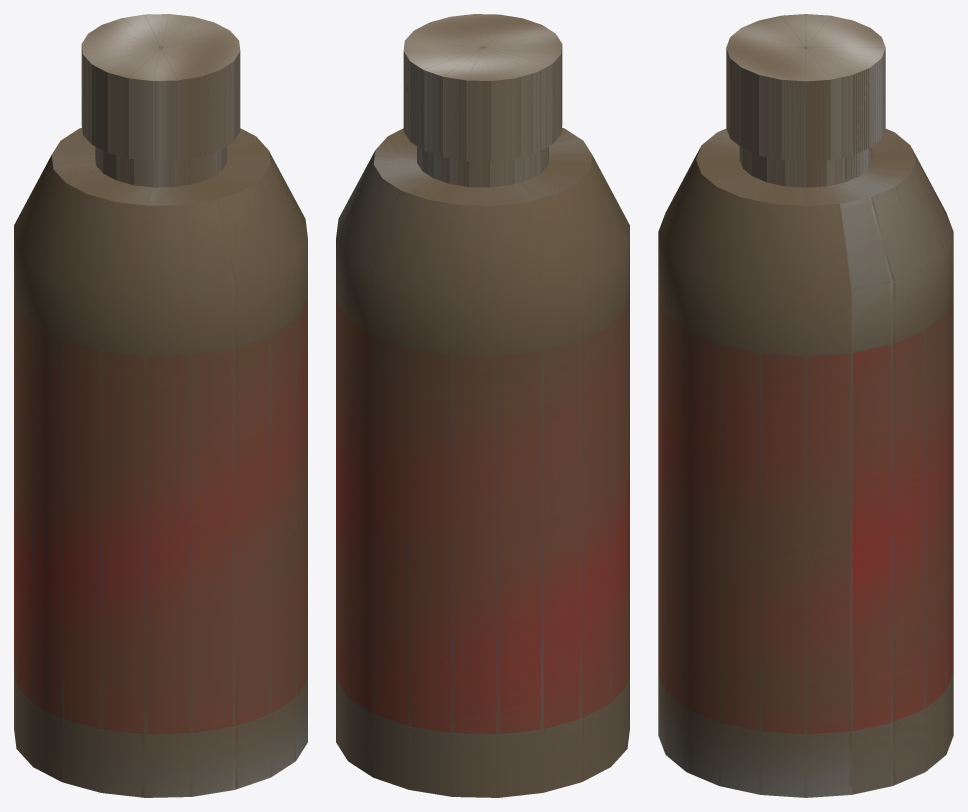
The model's file is Darty_Petbotol_R.fbx.
The picture shows the model from 3 angles, left to right: view 1: azimuth 30°, elevation 25°; view 2: azimuth 150°, elevation 25°; view 3: azimuth 270°, elevation 25°; orthographic projection.
Visible parts, largest first — view 1: pCylinder1; view 2: pCylinder1; view 3: pCylinder1.
Part boxes in pixels (x1,y1,x2,y2): pCylinder1: (14,14,307,797); pCylinder1: (336,14,629,797); pCylinder1: (658,14,953,797).
Size of the model in its own units: 4.47 by 11.48 by 4.47.
1 material, 1 textured.
